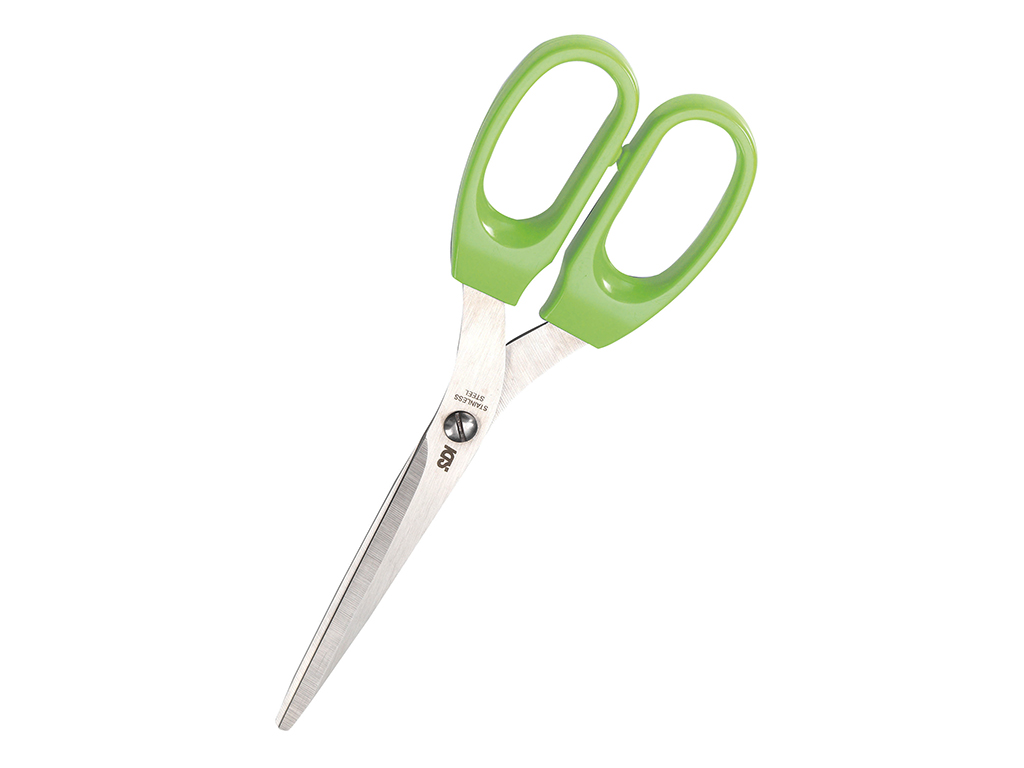scissors: (267, 28, 764, 740)
